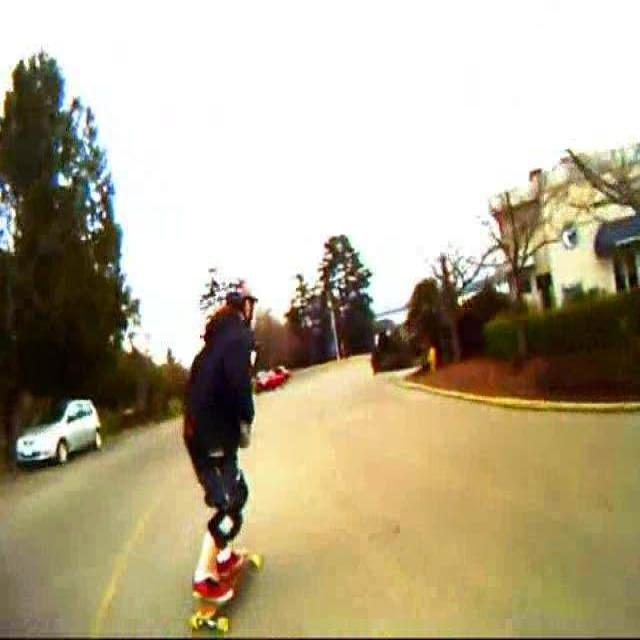other: (148, 541, 304, 625), (250, 364, 298, 404)
